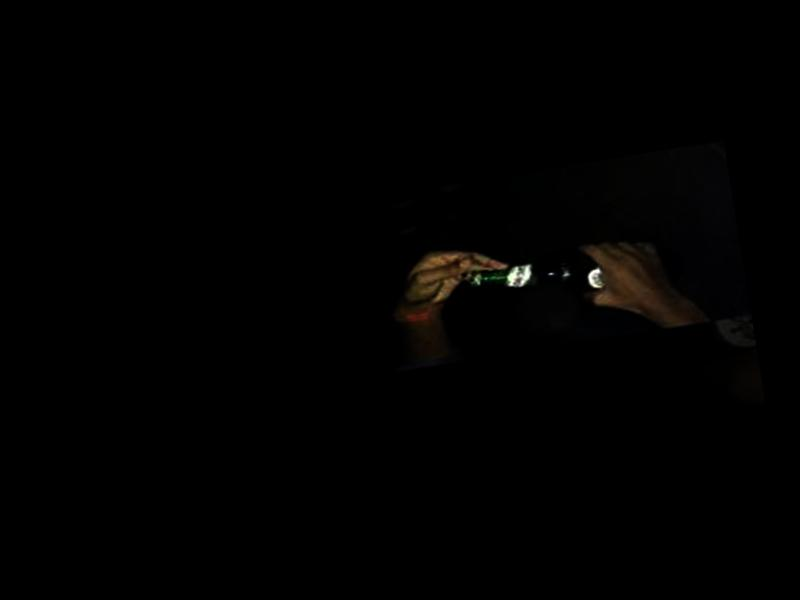Beer: (468, 234, 683, 319)
